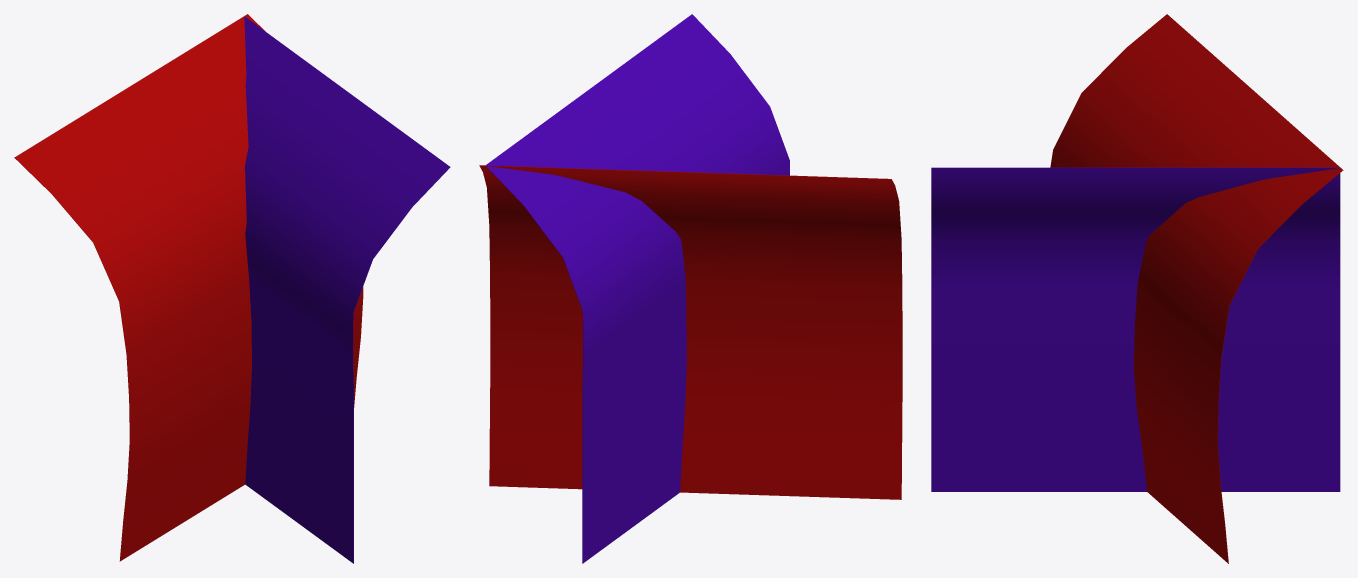
Rendered from grass_plane.fbx.
3 views of the same model, side by side, from view 1: azimuth 30°, elevation 25°; view 2: azimuth 150°, elevation 25°; view 3: azimuth 270°, elevation 25° (orthographic).
Visible parts, largest first — view 1: pPlane3, pPlane2; view 2: pPlane3, pPlane2; view 3: pPlane2, pPlane3.
Boxes of the visible parts, box(x1,y1,x2,y2) form: pPlane3: box(14, 14, 363, 561); pPlane2: box(244, 16, 450, 563); pPlane3: box(479, 165, 902, 499); pPlane2: box(485, 14, 789, 563); pPlane2: box(931, 167, 1340, 491); pPlane3: box(1050, 14, 1343, 563).
Size of the model in its own units: 47.22 by 45.02 by 45.34.
